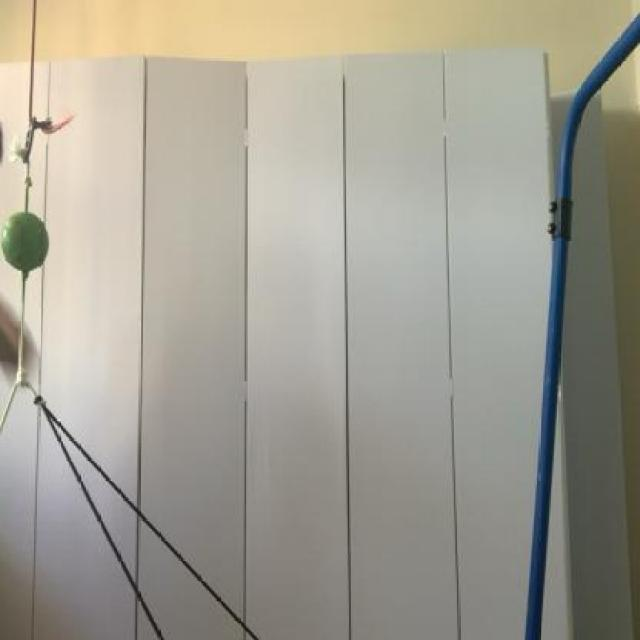baseball: (0, 202, 54, 270)
